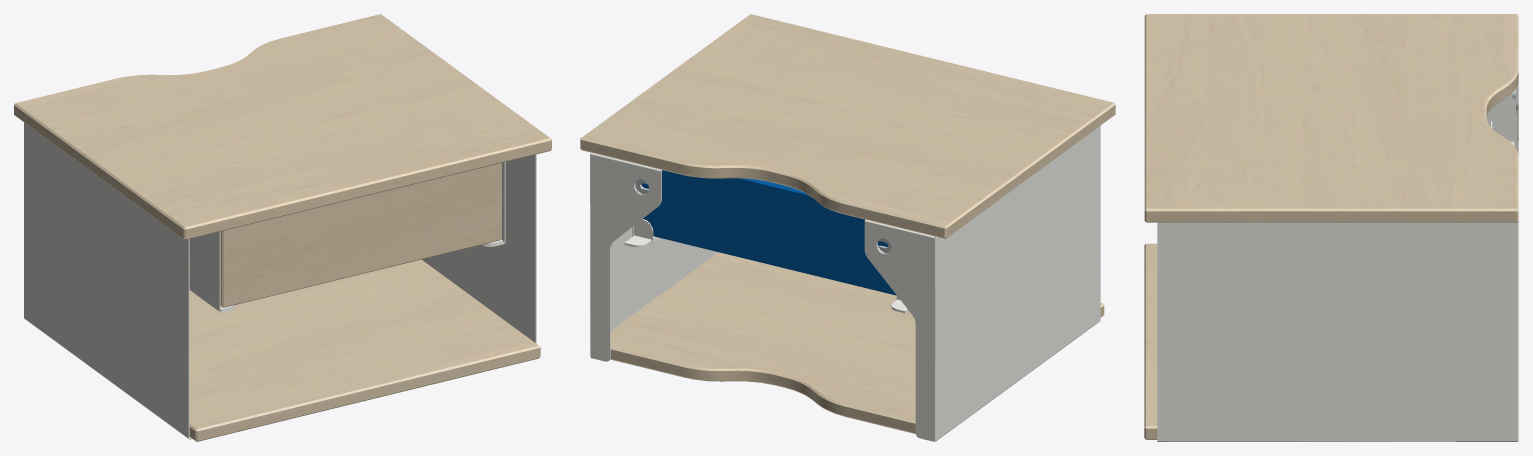
File: stomso-mesita-de-noche-de-pared-efecto-abedul-blancoazul.glb
3 renders of one model, left to right at view 1: azimuth 30°, elevation 25°; view 2: azimuth 150°, elevation 25°; view 3: azimuth 270°, elevation 25°, orthographic. The views are drawn at different scales.
Parts seen in each view (by area): view 1: ASY_ART_70567805_S01_NV01, ASY_LPT01_70567805_S01_NV01; view 2: ASY_ART_70567805_S01_NV01, ASY_LPT01_70567805_S01_NV01; view 3: ASY_ART_70567805_S01_NV01.
Part boxes in pixels (box(x1,y1,x2,y2)): ASY_ART_70567805_S01_NV01: box(14, 14, 551, 441); ASY_LPT01_70567805_S01_NV01: box(220, 163, 501, 307); ASY_ART_70567805_S01_NV01: box(580, 14, 1115, 441); ASY_LPT01_70567805_S01_NV01: box(635, 170, 896, 295); ASY_ART_70567805_S01_NV01: box(1144, 14, 1518, 441).
Bounding box in the file's own units: 0.36 × 0.2046 × 0.2903.
Materials: 2 (2 with a texture image).
